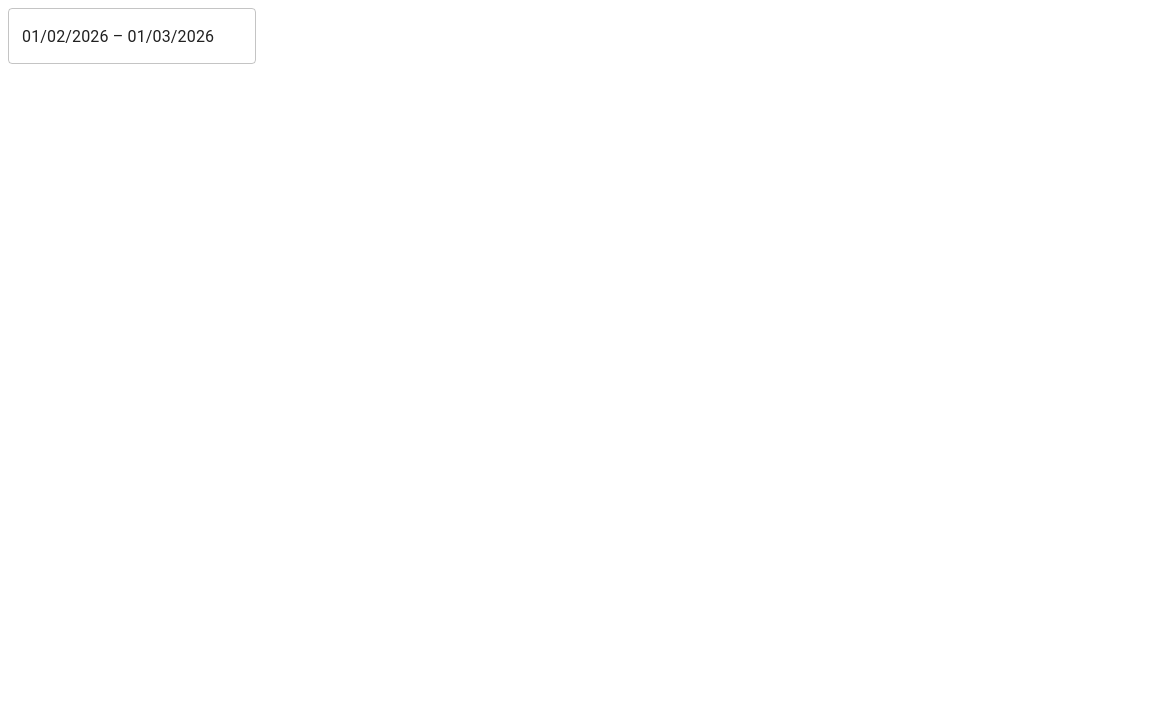
MobileDateRangePicker › Cancel reverts the value
Press Enter in the field, box [8, 8, 256, 64]
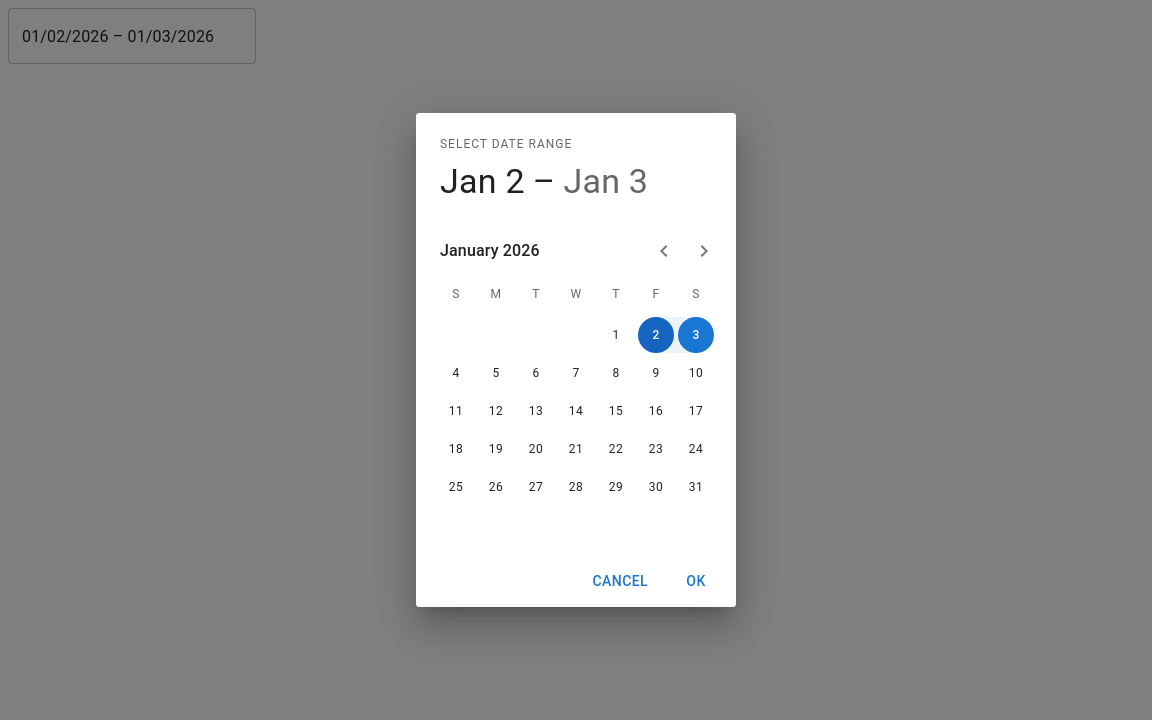
Click the cell "1" at (616, 335), box [598, 317, 634, 353]
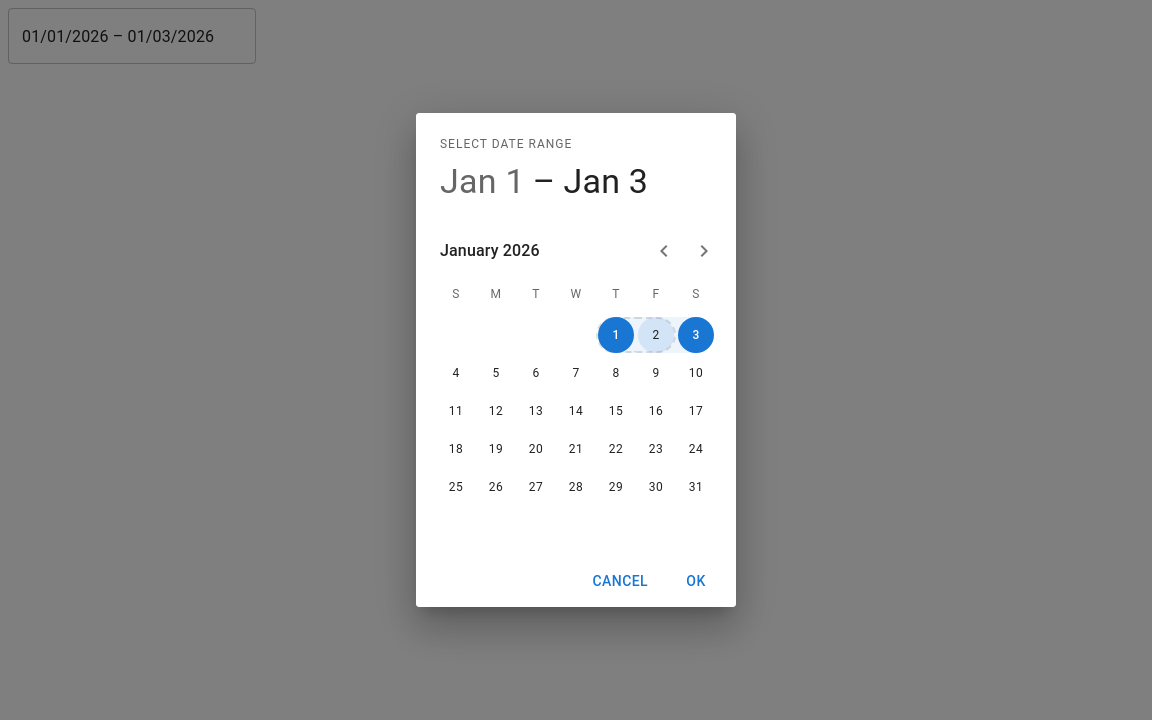
Click the button "Cancel" at (620, 581), box [584, 563, 656, 599]
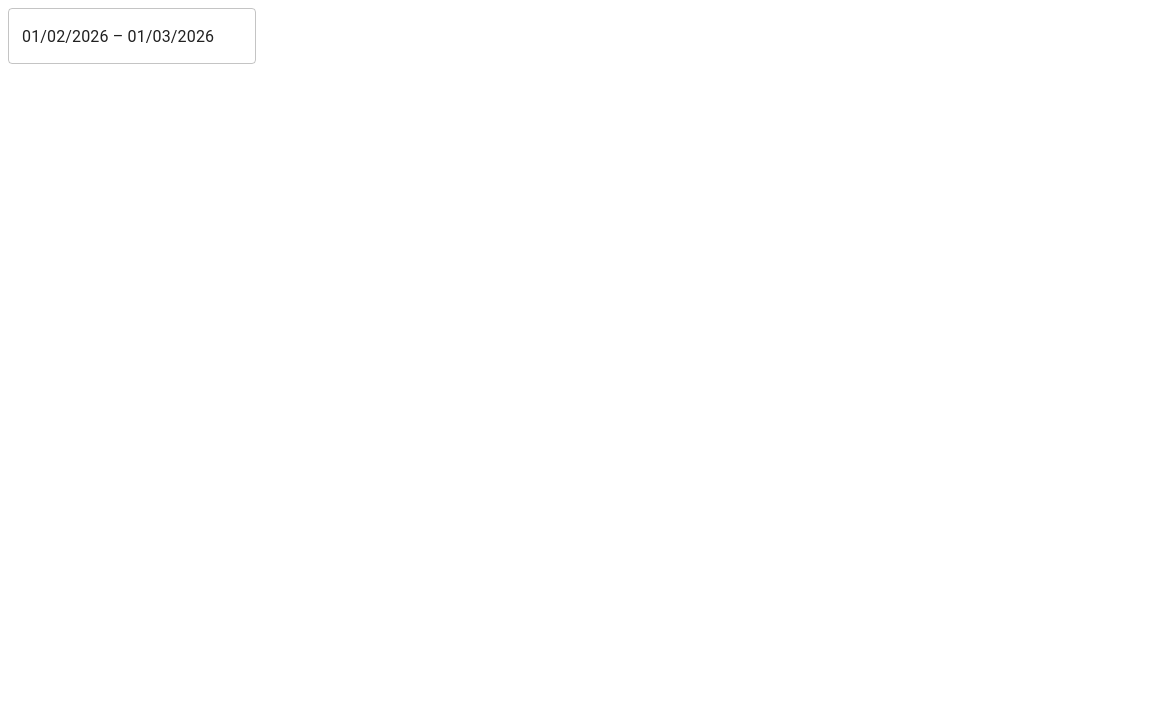
Expected: the field holds "01/02/2026 – 01/03/2026", [8, 8, 256, 64]
